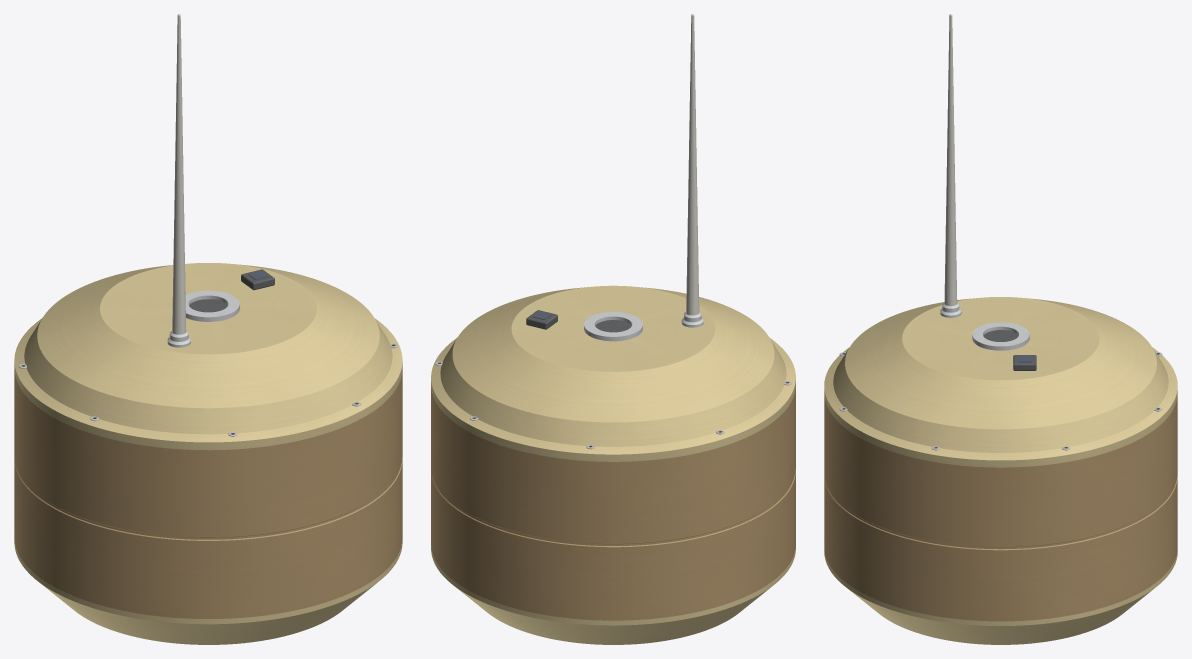
Rendered from ds2-aftbody.glb.
3 renders of one model, left to right at view 1: azimuth 30°, elevation 25°; view 2: azimuth 150°, elevation 25°; view 3: azimuth 270°, elevation 25°, orthographic. The views are drawn at different scales.
Parts seen in each view (by area): view 1: AFT_SHELL_FRONT_shell, CHASSIS_COVER_lid, AFT_IMPACT_FACE_face, AFT_SHELL_BACK_shell, ANTENNA_mast, CHASSIS_COVER_centralRing; view 2: AFT_SHELL_BACK_shell, CHASSIS_COVER_lid, AFT_IMPACT_FACE_face, AFT_SHELL_FRONT_shell, ANTENNA_mast, CHASSIS_COVER_centralRing; view 3: CHASSIS_COVER_lid, AFT_SHELL_FRONT_shell, AFT_SHELL_BACK_shell, AFT_IMPACT_FACE_face, ANTENNA_mast, CHASSIS_COVER_centralRing.
Boxes of the visible parts, x1,y1,x2,y2 form: AFT_SHELL_FRONT_shell: (40,370,402,618); CHASSIS_COVER_lid: (14,263,402,450); AFT_IMPACT_FACE_face: (14,539,402,644); AFT_SHELL_BACK_shell: (14,370,41,577); ANTENNA_mast: (172,14,186,334); CHASSIS_COVER_centralRing: (185,290,239,321); AFT_SHELL_BACK_shell: (431,388,771,620); CHASSIS_COVER_lid: (431,285,795,461); AFT_IMPACT_FACE_face: (431,546,795,644); AFT_SHELL_FRONT_shell: (770,387,795,581); ANTENNA_mast: (686,14,699,315); CHASSIS_COVER_centralRing: (584,312,642,341); CHASSIS_COVER_lid: (824,297,1177,467); AFT_SHELL_FRONT_shell: (824,397,1000,621); AFT_SHELL_BACK_shell: (1001,397,1177,621); AFT_IMPACT_FACE_face: (824,551,1177,644); ANTENNA_mast: (944,14,957,306); CHASSIS_COVER_centralRing: (972,322,1029,350).
Size of the model in its own units: 0.136 by 0.2323 by 0.136.
Materials: 19 (10 with a texture image).
